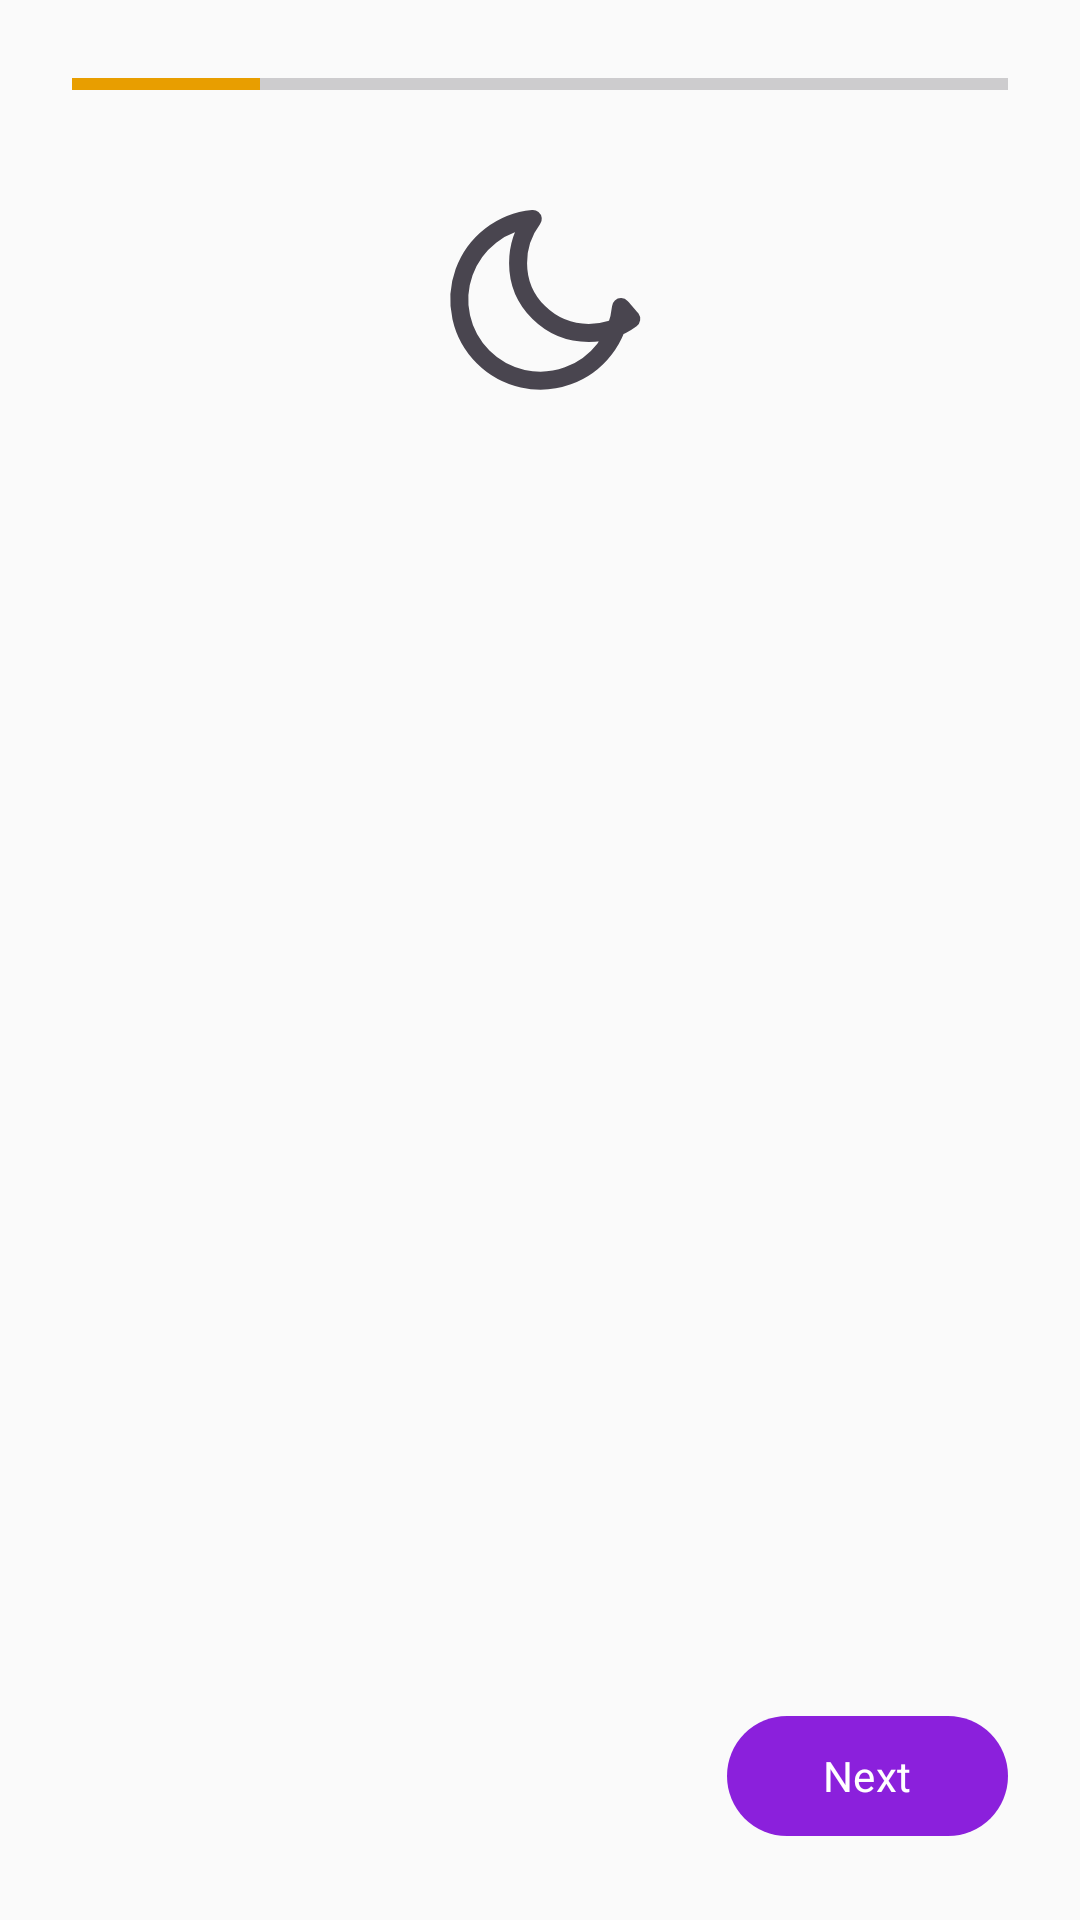

Point at icon controls on the screen. Image size 1080px×1920px, points as (x,y).
luna moon: (545,300)
